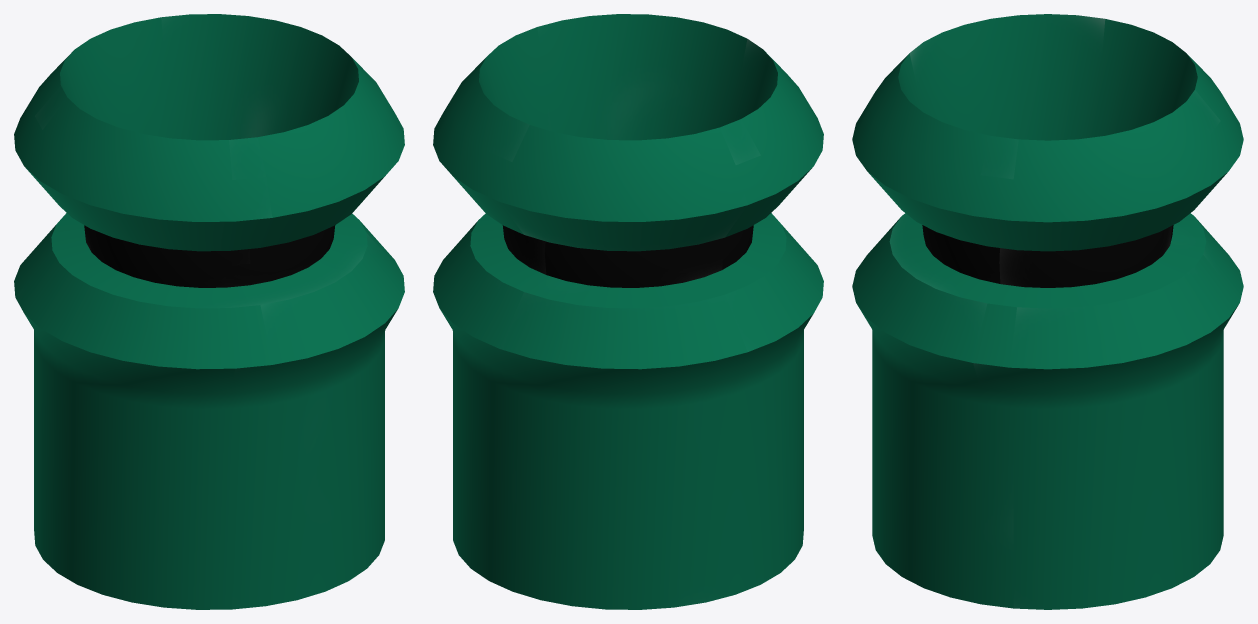
The model's file is M-008 Final Barrel 3.fbx.
3 renders of one model, left to right at view 1: azimuth 30°, elevation 25°; view 2: azimuth 150°, elevation 25°; view 3: azimuth 270°, elevation 25°, orthographic.
Visible parts, largest first — view 1: Sphere; view 2: Sphere; view 3: Sphere.
Boxes of the visible parts, x1,y1,x2,y2 form: Sphere: (14, 14, 404, 609); Sphere: (433, 14, 823, 609); Sphere: (852, 14, 1243, 609).
Bounding box in the file's own units: 64.65 × 84.88 × 64.65.
